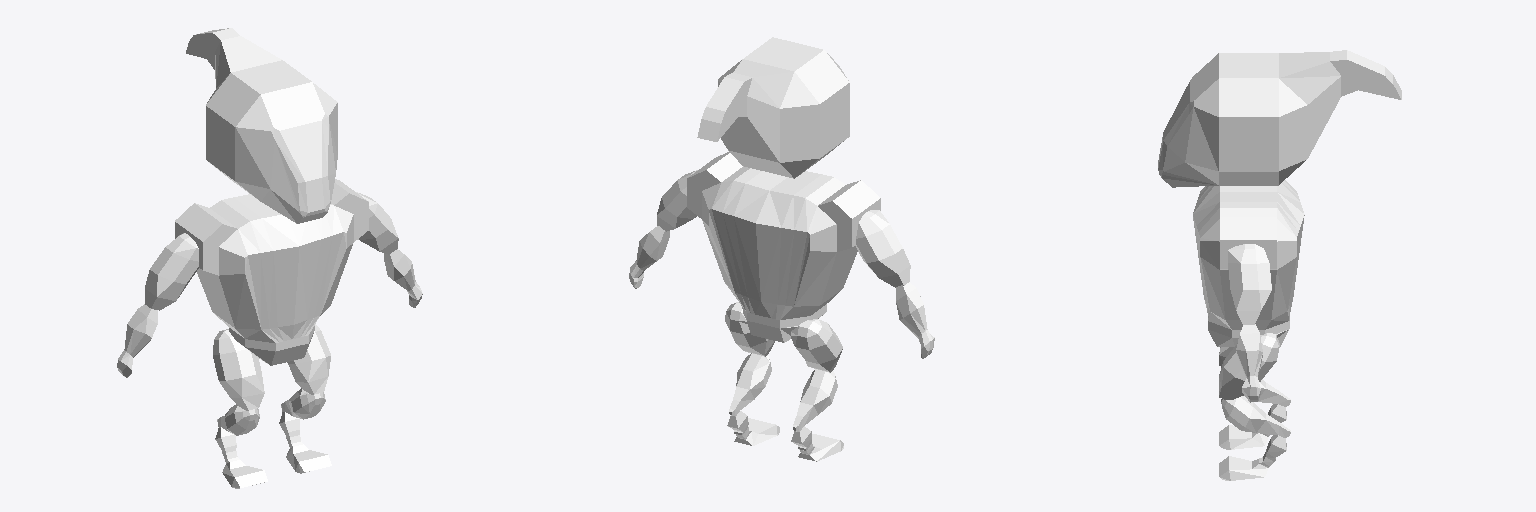
The model's file is player-ten-maly.obj.
3 views of the same model, side by side, from view 1: azimuth 30°, elevation 25°; view 2: azimuth 150°, elevation 25°; view 3: azimuth 270°, elevation 25° (orthographic).
Parts seen in each view (by area): view 1: player; view 2: player; view 3: player.
Part boxes in pixels (x1,y1,x2,y2): player: (117,28,422,488); player: (629,37,934,461); player: (1158,50,1401,480).
Size of the model in its own units: 0.8398 by 1.07 by 0.5898.